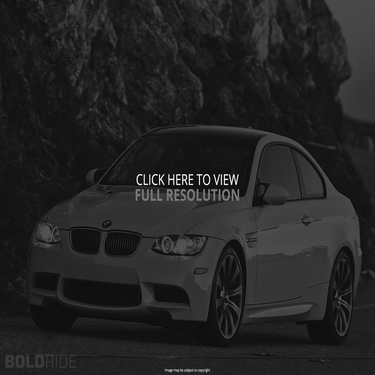car: (23, 115, 365, 351)
